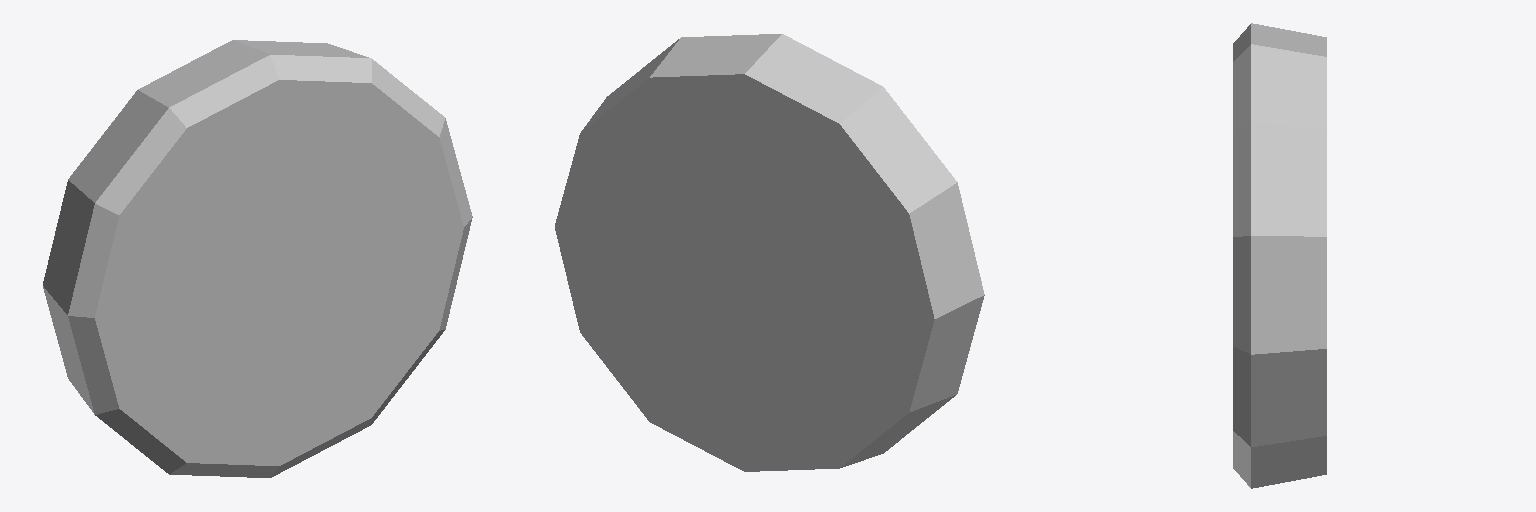
The model's file is Dummy_Base_Dummy_Body_Dummy_Target.obj.
3 renders of one model, left to right at view 1: azimuth 30°, elevation 25°; view 2: azimuth 150°, elevation 25°; view 3: azimuth 270°, elevation 25°, orthographic.
Visible parts, largest first — view 1: Dummy_Target_Cylinder.315; view 2: Dummy_Target_Cylinder.315; view 3: Dummy_Target_Cylinder.315.
Part boxes in pixels (bbox=[...]): Dummy_Target_Cylinder.315: bbox=[43, 40, 472, 477]; Dummy_Target_Cylinder.315: bbox=[555, 34, 984, 471]; Dummy_Target_Cylinder.315: bbox=[1233, 23, 1326, 488].
Bounding box in the file's own units: 0.575 × 0.575 × 0.115.